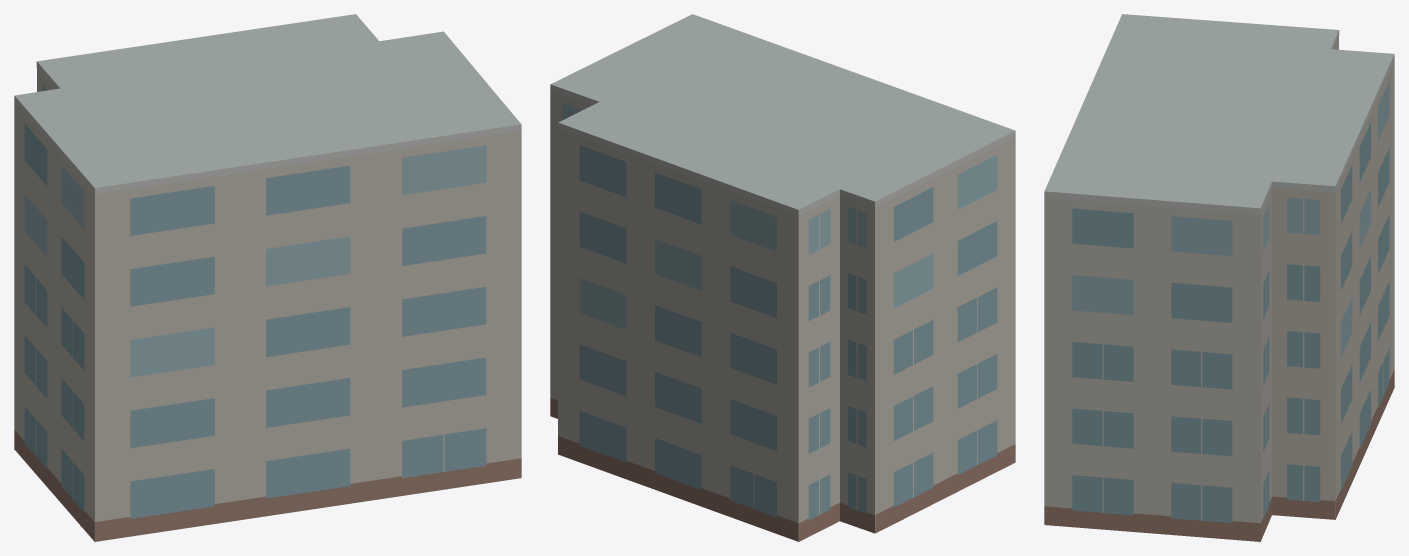
Rendered from survey-upis-32669714.glb.
3 views of the same model, side by side, from view 1: azimuth 30°, elevation 25°; view 2: azimuth 150°, elevation 25°; view 3: azimuth 270°, elevation 25° (orthographic). The views are drawn at different scales.
Visible parts, largest first — view 1: survey-upis-32669714.tmp; view 2: survey-upis-32669714.tmp; view 3: survey-upis-32669714.tmp.
Part boxes in pixels (x1,y1,x2,y2): survey-upis-32669714.tmp: (14, 14, 521, 541); survey-upis-32669714.tmp: (550, 14, 1015, 541); survey-upis-32669714.tmp: (1044, 14, 1394, 541).
Bounding box in the file's own units: 16.88 × 13.5 × 12.86.
